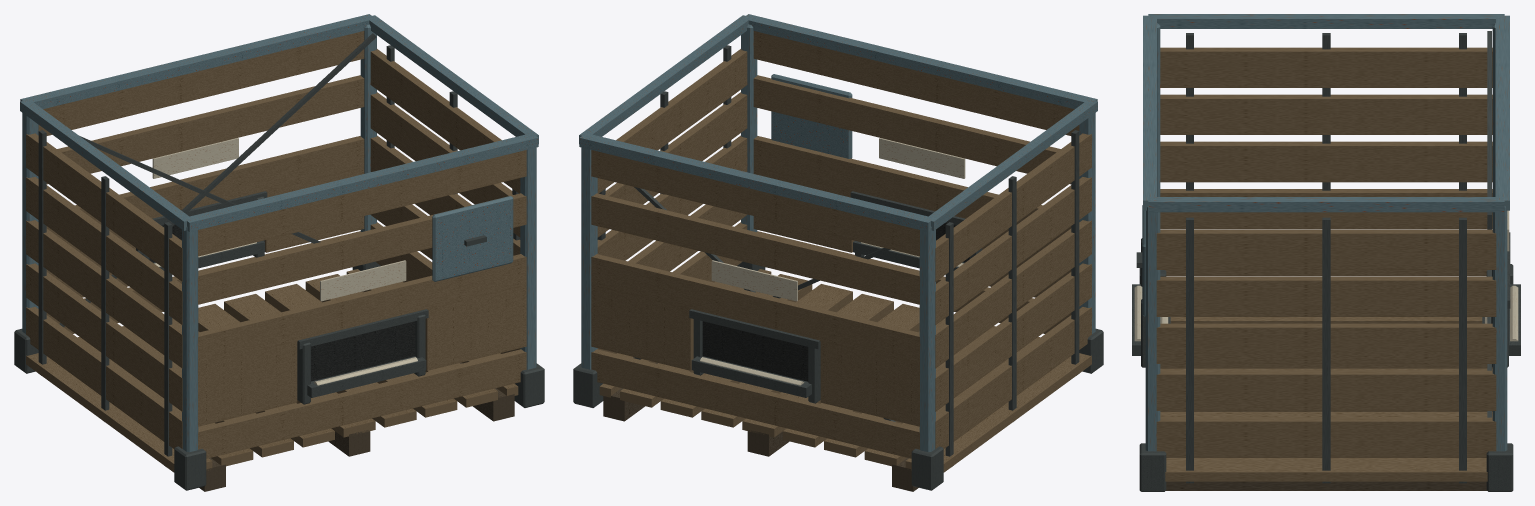
Rendered from CompactPortedStorage.fbx.
3 views of the same model, side by side, from view 1: azimuth 30°, elevation 25°; view 2: azimuth 150°, elevation 25°; view 3: azimuth 270°, elevation 25° (orthographic). The views are drawn at different scales.
Visible parts, largest first — view 1: CompactPortedStorage; view 2: CompactPortedStorage; view 3: CompactPortedStorage.
Boxes of the visible parts, box(x1,y1,x2,y2) form: CompactPortedStorage: box(14, 14, 544, 491); CompactPortedStorage: box(573, 14, 1103, 491); CompactPortedStorage: box(1132, 14, 1520, 491).
Bounding box in the file's own units: 304 × 224 × 262.
1 material, 1 textured.
